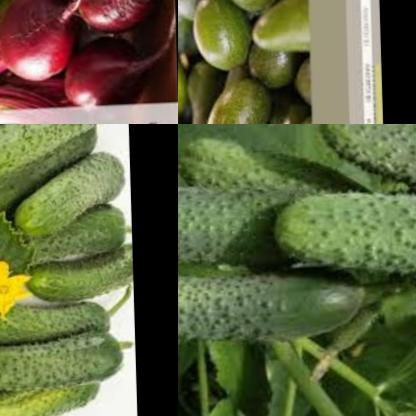avocado: (237, 0, 316, 68), (185, 0, 243, 71), (191, 77, 266, 124), (178, 53, 191, 124)
beet: (57, 39, 146, 114), (0, 0, 76, 87), (63, 0, 157, 40)
cucumber: (178, 264, 379, 362), (267, 181, 416, 306), (178, 167, 329, 269), (0, 197, 130, 278), (18, 150, 131, 234), (0, 325, 130, 396), (305, 124, 416, 207), (0, 132, 99, 222), (15, 241, 134, 312), (0, 124, 118, 186), (0, 296, 124, 348), (0, 124, 81, 188), (0, 375, 114, 416)
